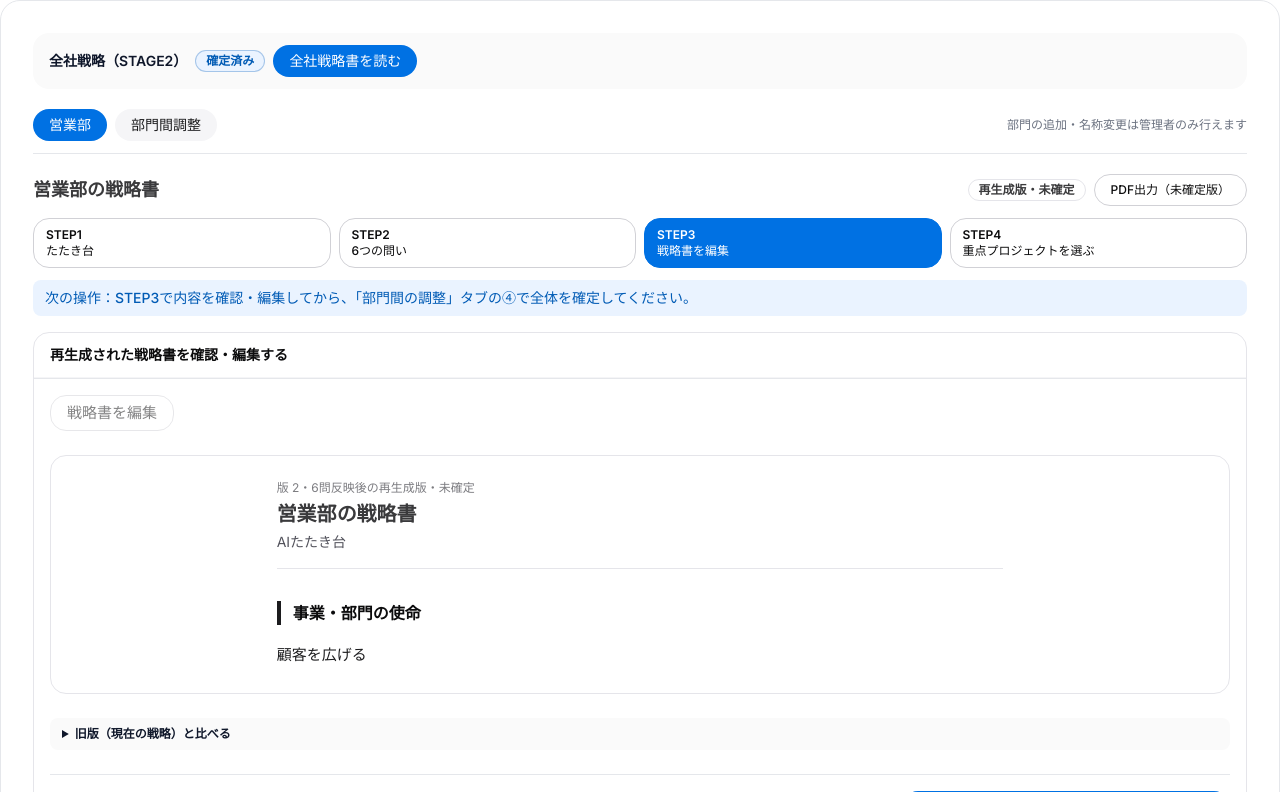
STEP4の重点プロジェクトの採否 › 書き込みを待つ理由がある間は採否を押せず、理由を出す
Click the button "STEP4 重点プロジェクトを選ぶ": (982, 234) [950, 218, 1247, 268]
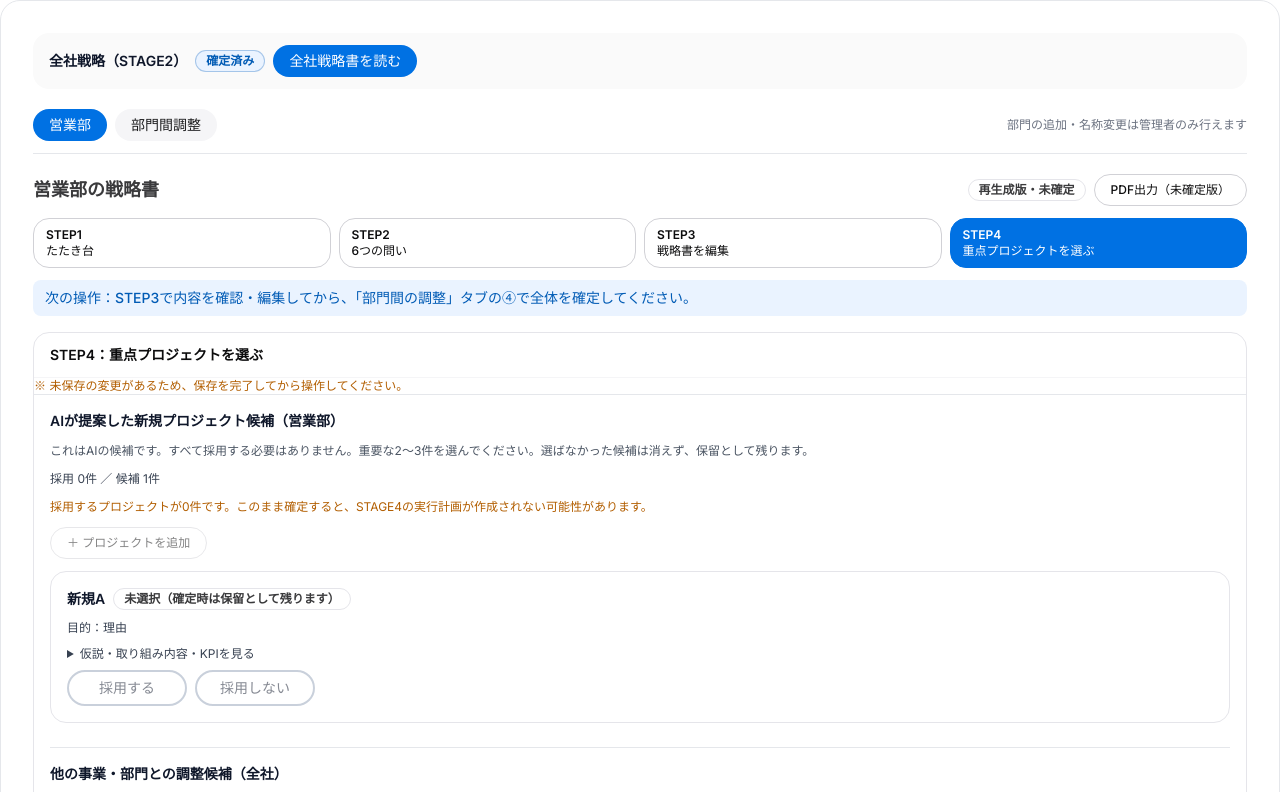
Check: the button "採用する" is disabled, box [67, 670, 187, 706]
Check: the text "※ 未保存の変更があるため、保存を完了してから操作してください。" is shown, box [34, 378, 408, 393]
